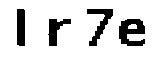7: (82, 4, 117, 50)
e: (117, 16, 148, 49)
l: (13, 5, 32, 51)
r: (46, 16, 74, 49)
